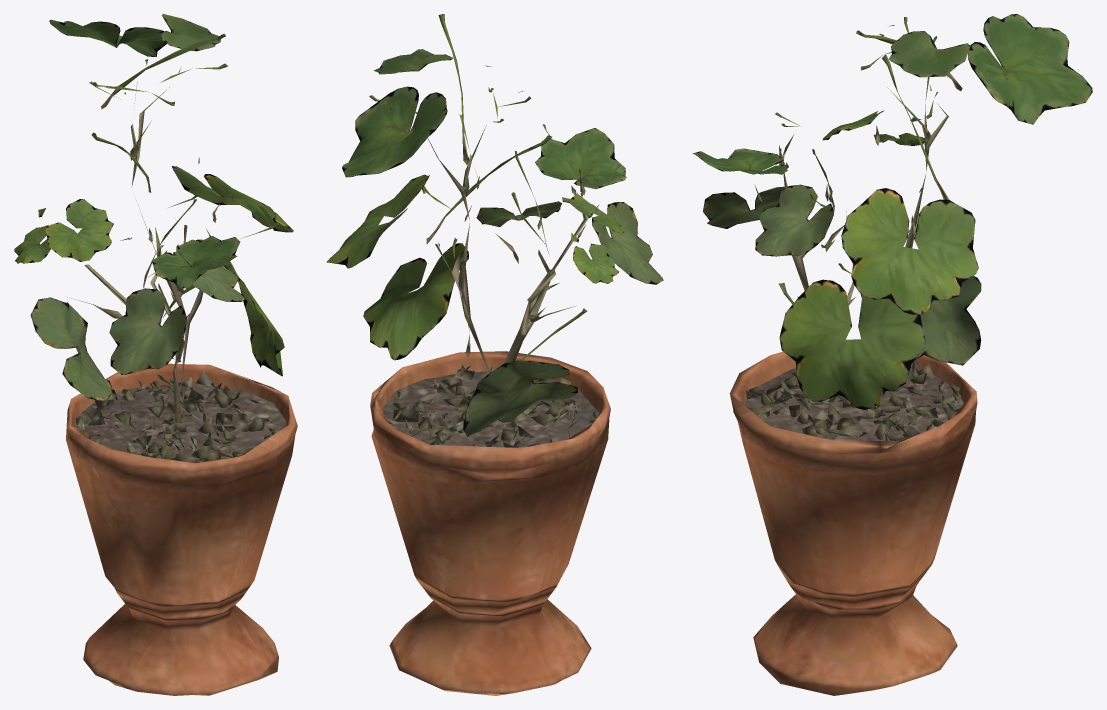
Rendered from jardiniere_plante_a_lod1.glb.
3 views of the same model, side by side, from view 1: azimuth 30°, elevation 25°; view 2: azimuth 150°, elevation 25°; view 3: azimuth 270°, elevation 25° (orthographic). The views are drawn at different scales.
Visible parts, largest first — view 1: potted_plant_01_stem, potted_plant_01_leaves; view 2: potted_plant_01_stem, potted_plant_01_leaves; view 3: potted_plant_01_stem, potted_plant_01_leaves.
Boxes of the visible parts, x1=… form: potted_plant_01_stem: x1=66, y1=82, x2=297, y2=695; potted_plant_01_leaves: x1=14, y1=14, x2=293, y2=408; potted_plant_01_stem: x1=370, y1=114, x2=610, y2=695; potted_plant_01_leaves: x1=327, y1=14, x2=663, y2=436; potted_plant_01_stem: x1=729, y1=77, x2=977, y2=695; potted_plant_01_leaves: x1=692, y1=14, x2=1092, y2=409.
Size of the model in its own units: 0.5839 by 1.3 by 0.7349.
2 materials, 2 textured.
